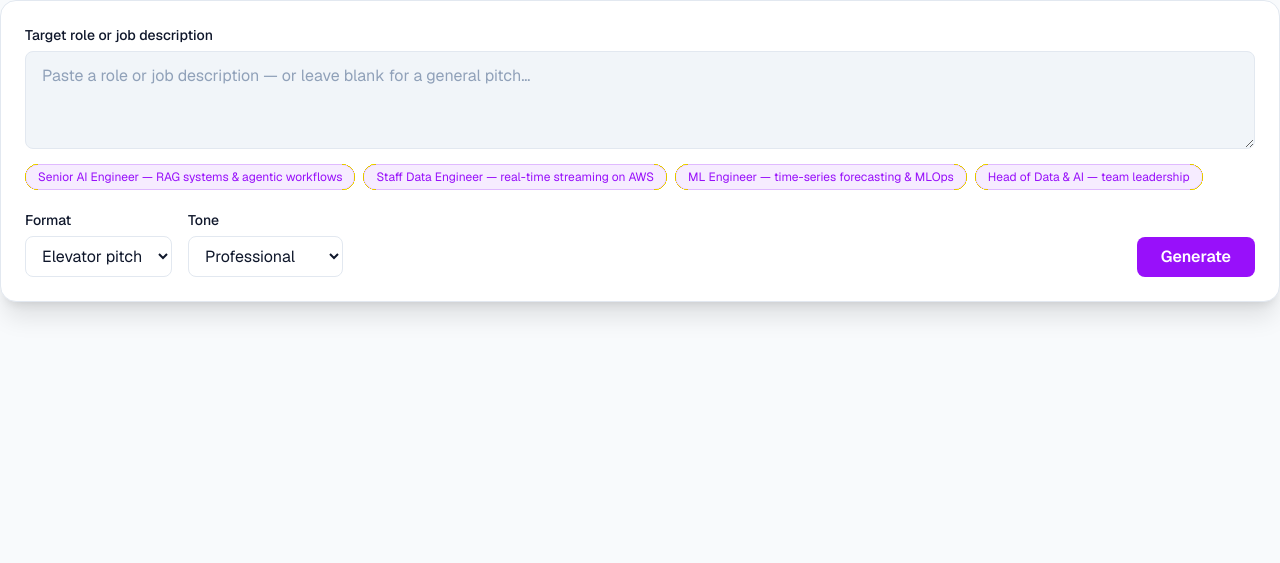
Test: ContentGenerator (streaming) › streams the draft and renders it with grounding sources
The image size is (1280, 563).
Replace the text in the text box labelled "Target role or job description" with "Senior AI Engineer" at (640,100), box [25,51,1255,149]
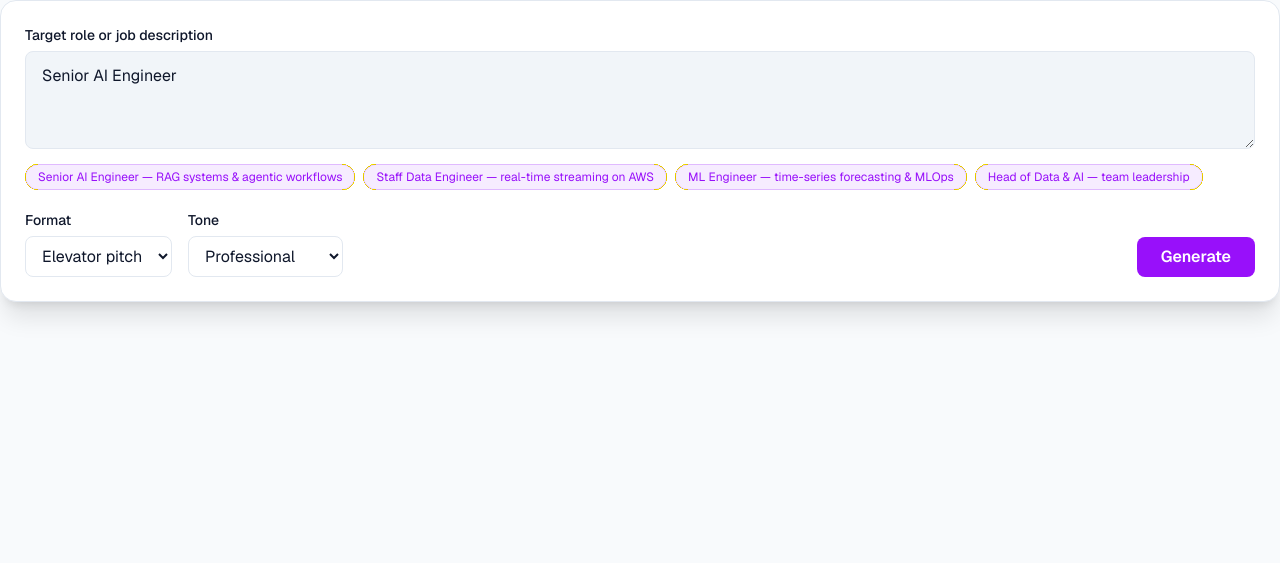
Click the button "Generate" at (1196,257), box [1137,237,1255,277]
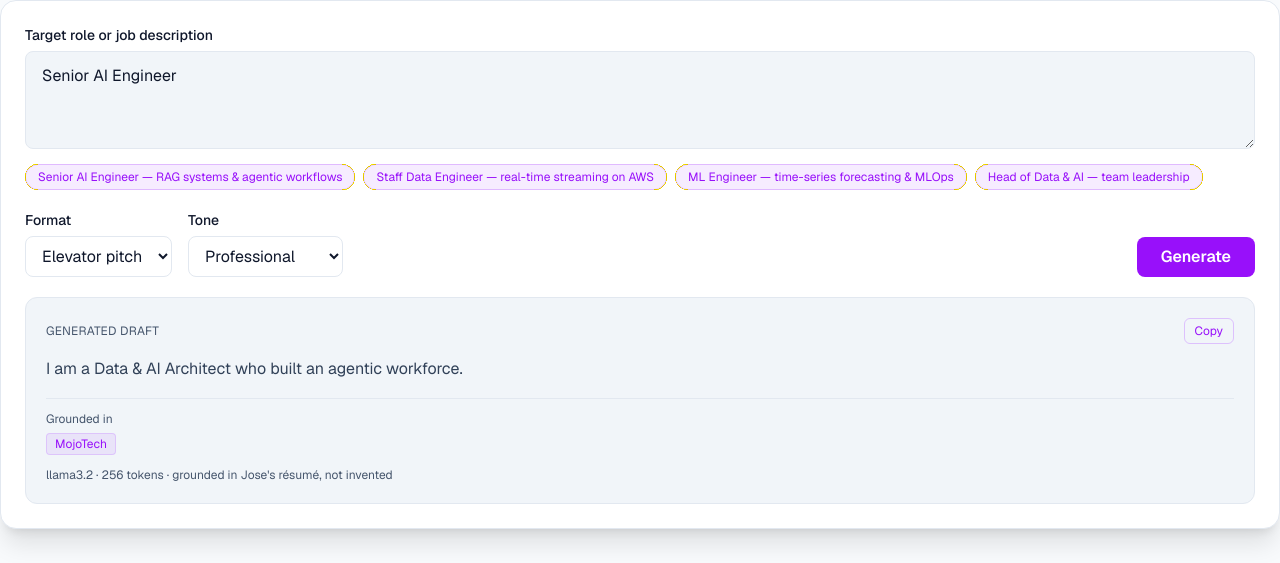
Check: the text "I am a Data & AI Architect who built an agentic workforce." is shown, box [46,358,463,379]
Check: the text "MojoTech" is shown, box [46,433,116,455]
Check: the text "grounded in Jose's résumé, not invented" is shown, box [164,467,393,483]
